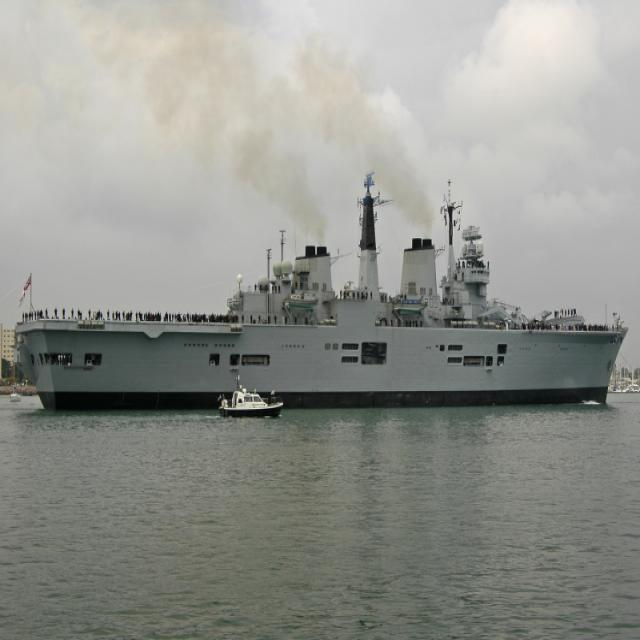Portanaves: (14, 161, 633, 416)
